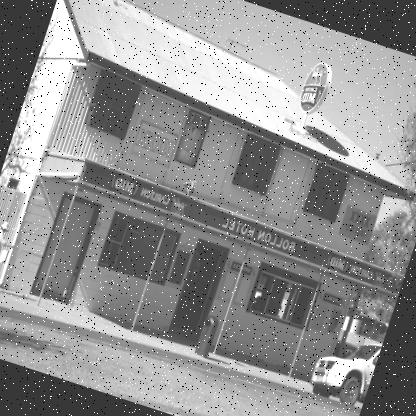Car: (306, 325, 382, 411), (334, 341, 357, 363)
